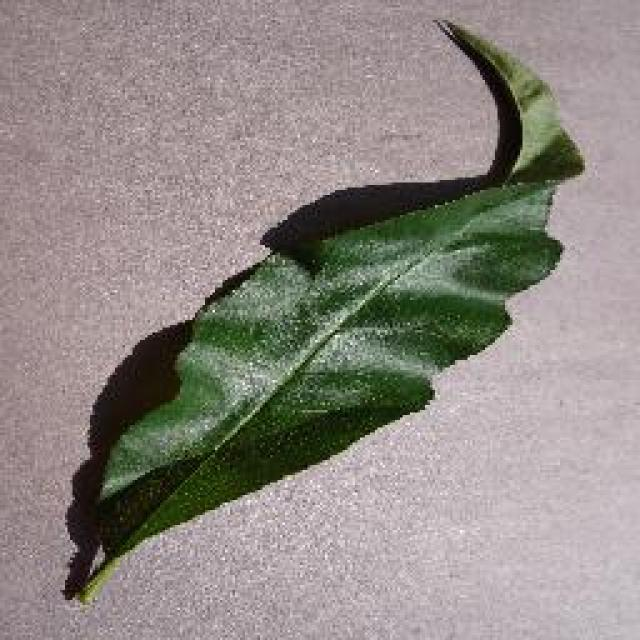Pea_healthy: (107, 105, 578, 535)
